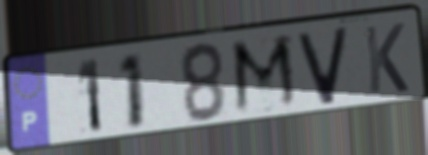1: (116, 50, 151, 132), (75, 55, 104, 139)
8: (178, 40, 230, 127)
K: (362, 21, 411, 97)
M: (228, 31, 303, 119)
V: (294, 24, 352, 109)
